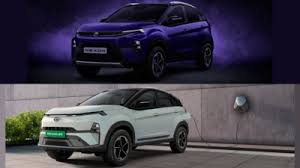Tata Nexon: (38, 87, 189, 165)
